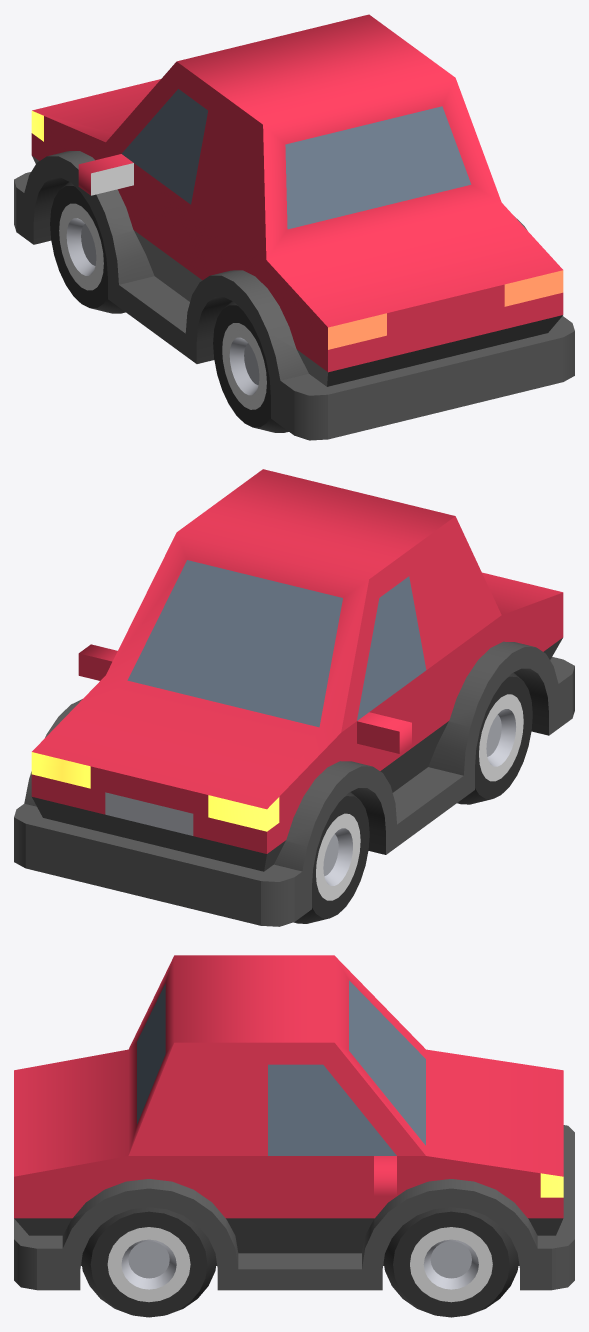
Rendered from sedan.glb.
3 renders of one model, top to bottom at view 1: azimuth 30°, elevation 25°; view 2: azimuth 150°, elevation 25°; view 3: azimuth 270°, elevation 25°, orthographic. The views are drawn at different scales.
Visible parts, largest first — view 1: body, wheel_frontLeft, wheel_backLeft; view 2: body, wheel_backLeft, wheel_frontLeft; view 3: body, wheel_backRight, wheel_frontRight.
Boxes of the visible parts, box(x1,y1,x2,y2) form: body: box(14, 14, 574, 440); wheel_frontLeft: box(50, 181, 125, 313); wheel_backLeft: box(213, 301, 288, 432); body: box(14, 469, 574, 926); wheel_backLeft: box(457, 672, 532, 804); wheel_frontLeft: box(293, 792, 369, 923); body: box(14, 955, 574, 1290); wheel_backRight: box(81, 1207, 216, 1317); wheel_frontRight: box(383, 1207, 518, 1317).
Size of the model in its own units: 1.5 by 1.3 by 2.45.
